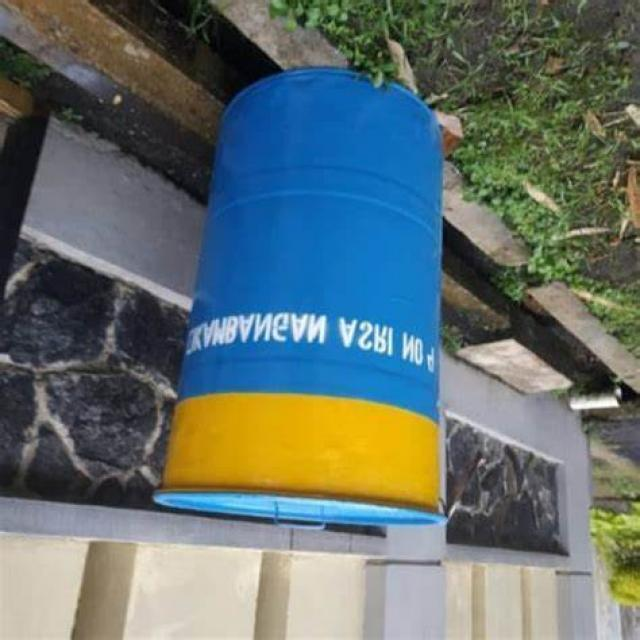garbage container: (123, 61, 468, 540)
